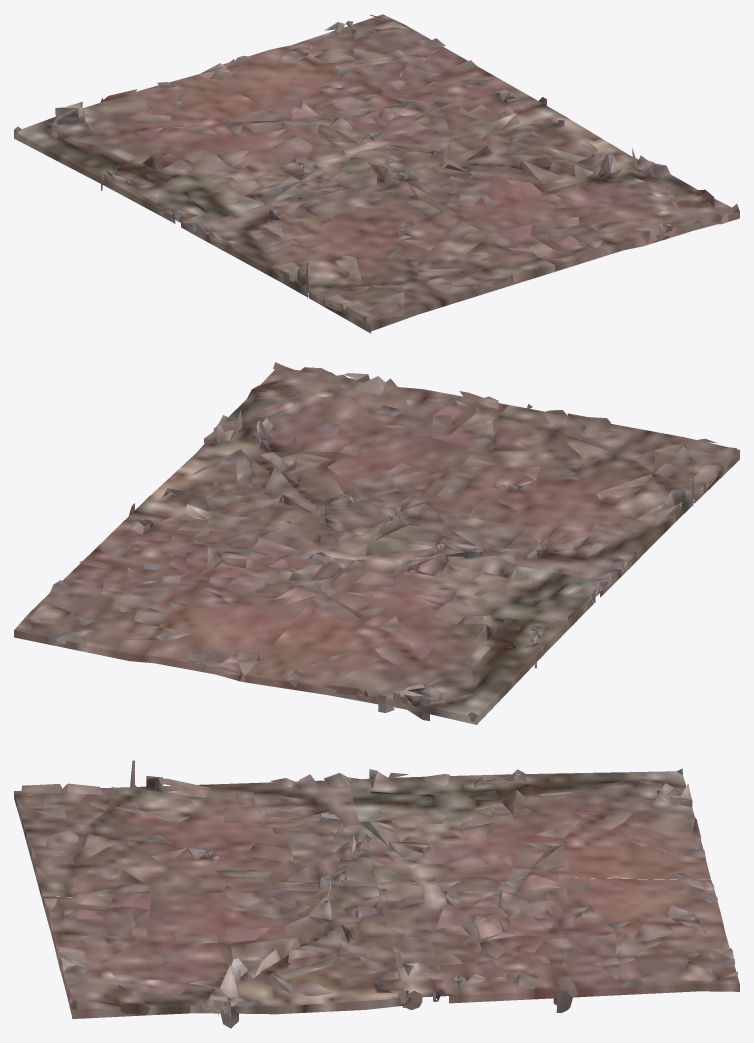
3 renders of one model, top to bottom at view 1: azimuth 30°, elevation 25°; view 2: azimuth 150°, elevation 25°; view 3: azimuth 270°, elevation 25°, orthographic. The views are drawn at different scales.
Visible parts, largest first — view 1: Mesh_0; view 2: Mesh_0; view 3: Mesh_0.
Boxes of the visible parts, <box> form: Mesh_0: <box>14,14,739,333</box>; Mesh_0: <box>14,362,739,724</box>; Mesh_0: <box>14,760,739,1028</box>.
Bounding box in the file's own units: 2130 × 247 × 2636.
Materials: 1 (1 with a texture image).
